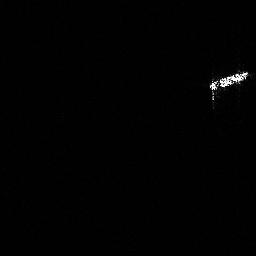ship: (204, 67, 251, 108)
